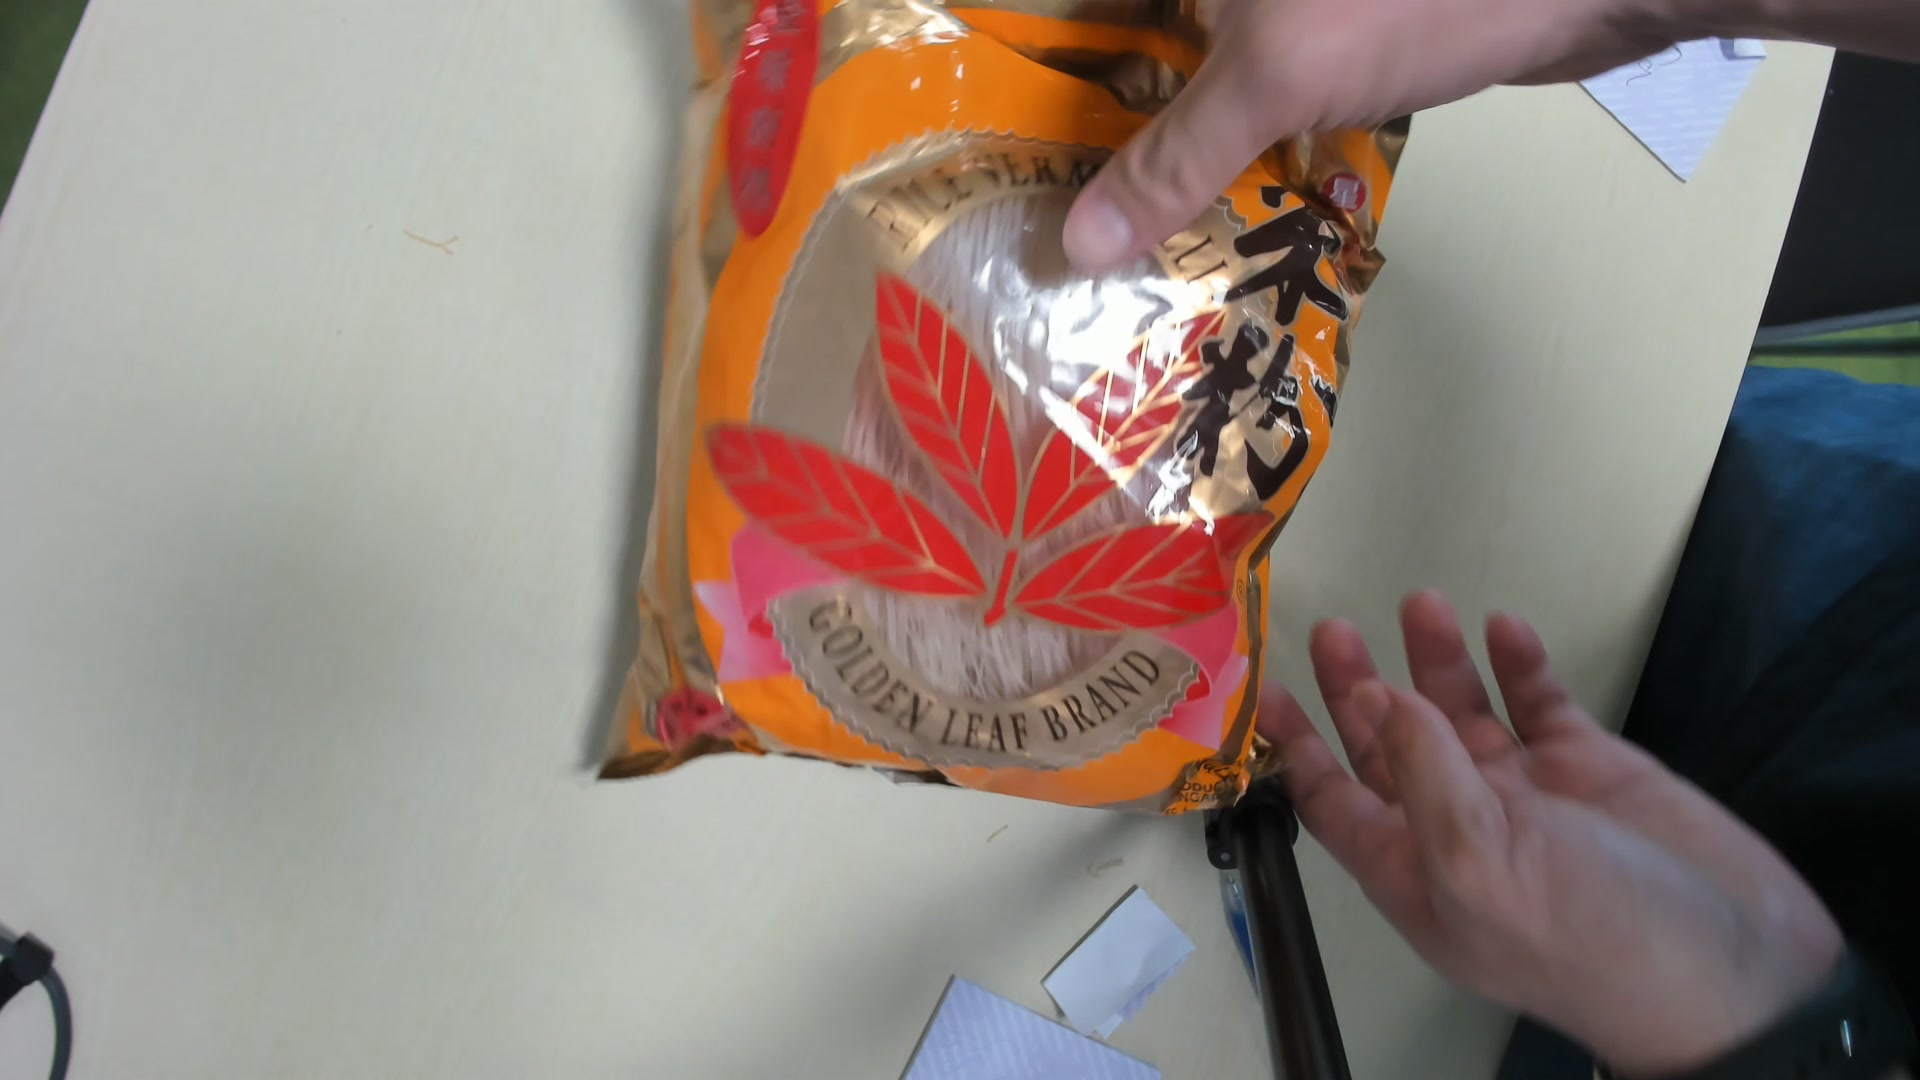OtherNoodles_400-499g_Halal_NonHealthy: (607, 8, 1414, 816)
